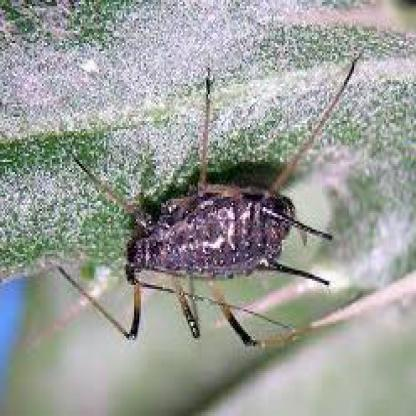uroleucon compositae: (121, 181, 334, 346)
